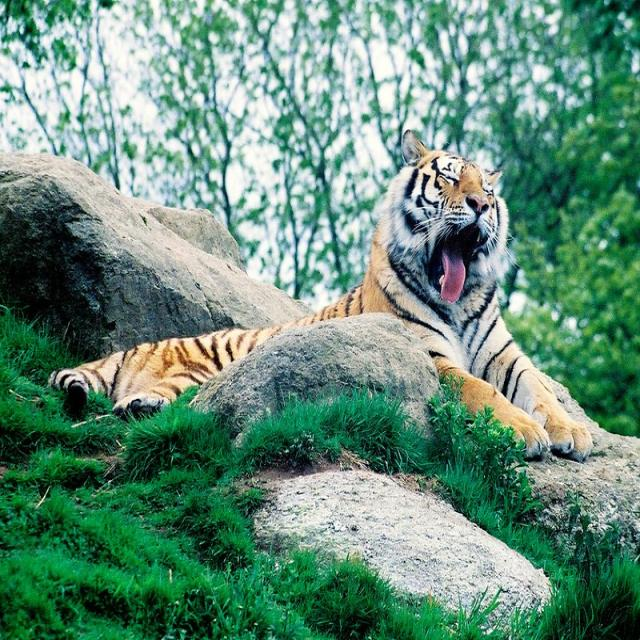Tiger: (51, 146, 594, 459)
